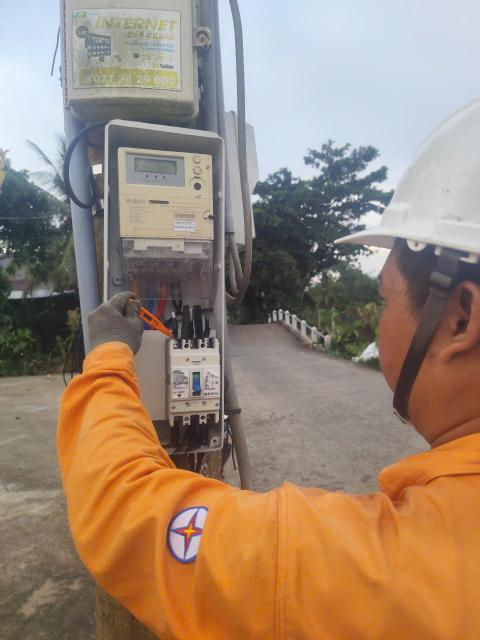gloves: (51, 273, 169, 379)
helmet: (319, 83, 480, 282)
